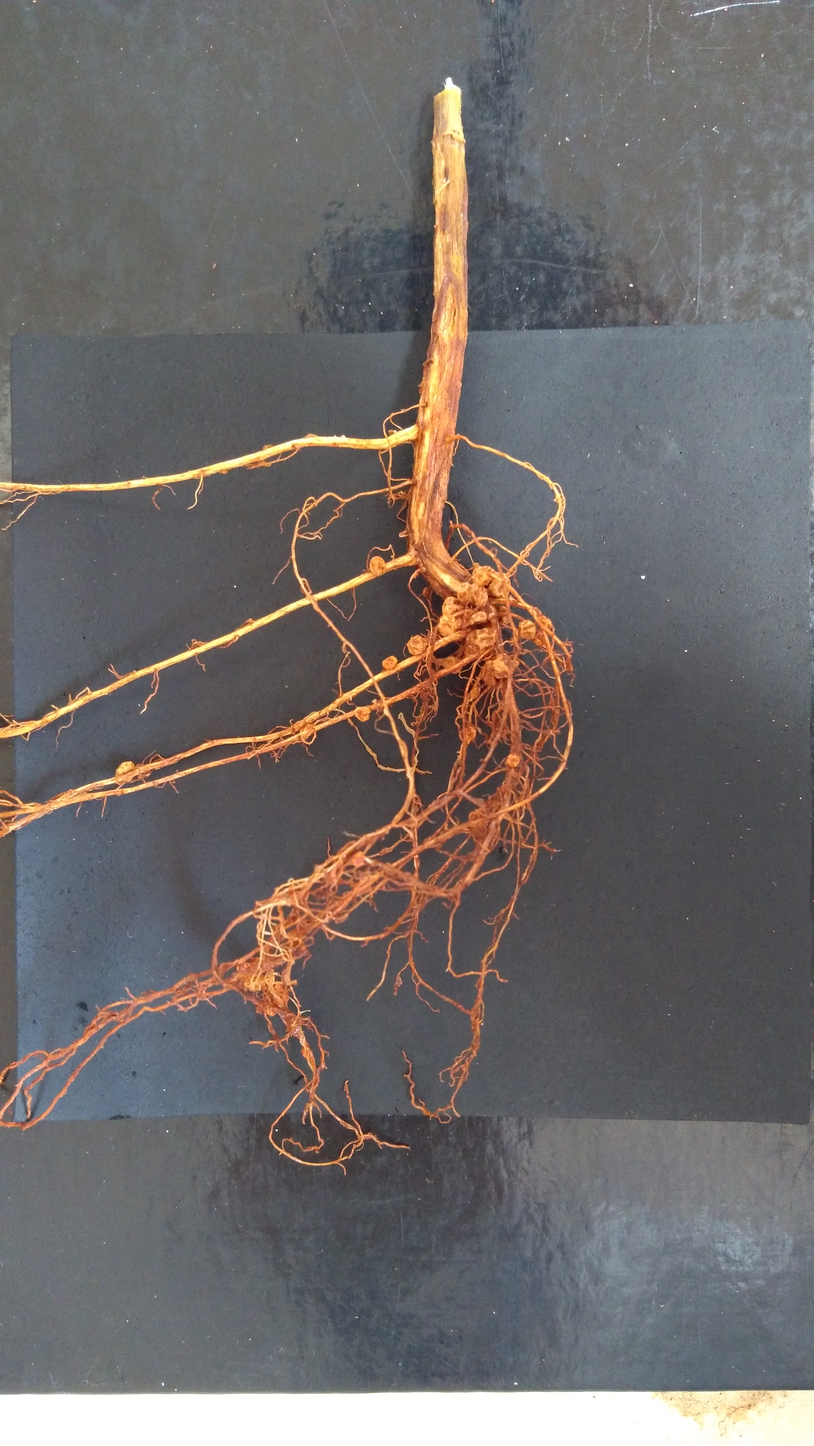nodule: (487, 652, 519, 679), (456, 581, 488, 608), (466, 628, 498, 651), (486, 573, 511, 599), (271, 981, 291, 1008), (515, 618, 537, 642), (406, 634, 429, 656), (438, 615, 460, 638), (472, 565, 494, 585), (440, 597, 462, 616), (458, 725, 477, 746), (369, 555, 386, 577), (443, 655, 462, 674), (467, 610, 488, 626), (532, 628, 549, 647), (115, 760, 135, 776), (353, 706, 371, 723), (349, 850, 366, 868), (504, 752, 521, 769), (381, 655, 399, 671), (498, 604, 512, 624), (539, 614, 554, 630), (484, 670, 496, 685), (266, 1003, 279, 1016), (469, 686, 481, 699), (422, 586, 429, 597), (413, 571, 419, 579)
